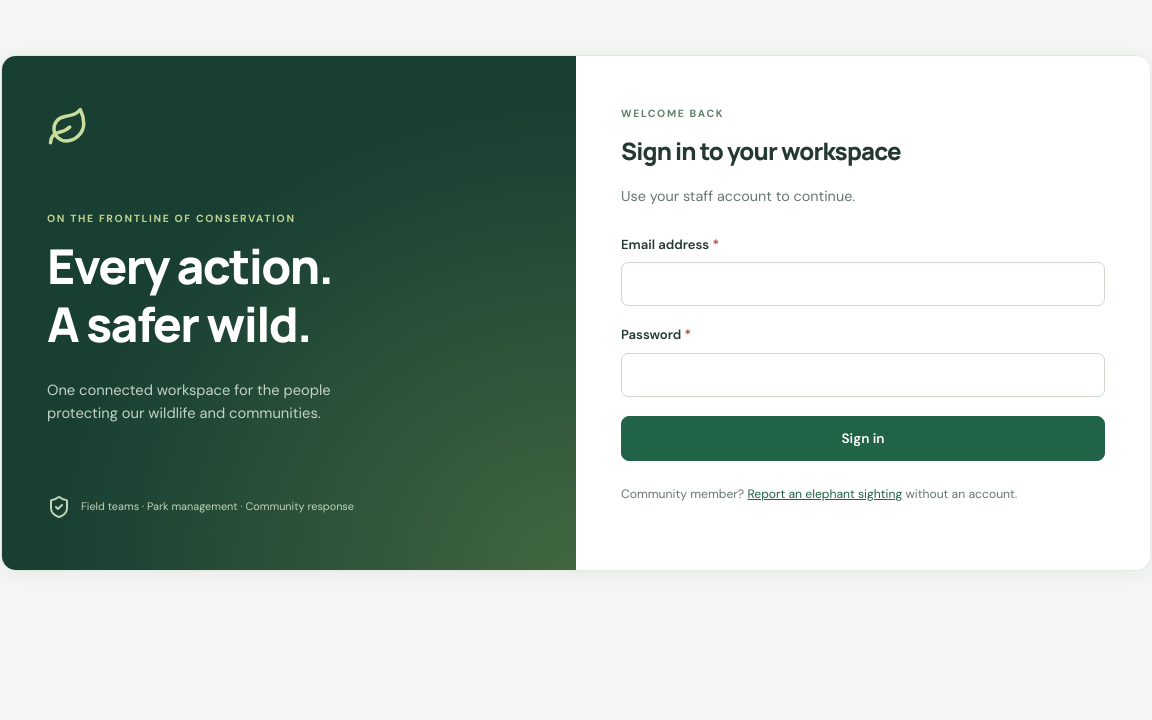
Test: Login form › requires email and password, submits credentials and shows API rejection
Type "ranger@wildlife.lk" into the field labelled "Email address *". click: (863, 284)
box: [621,262,1105,306]
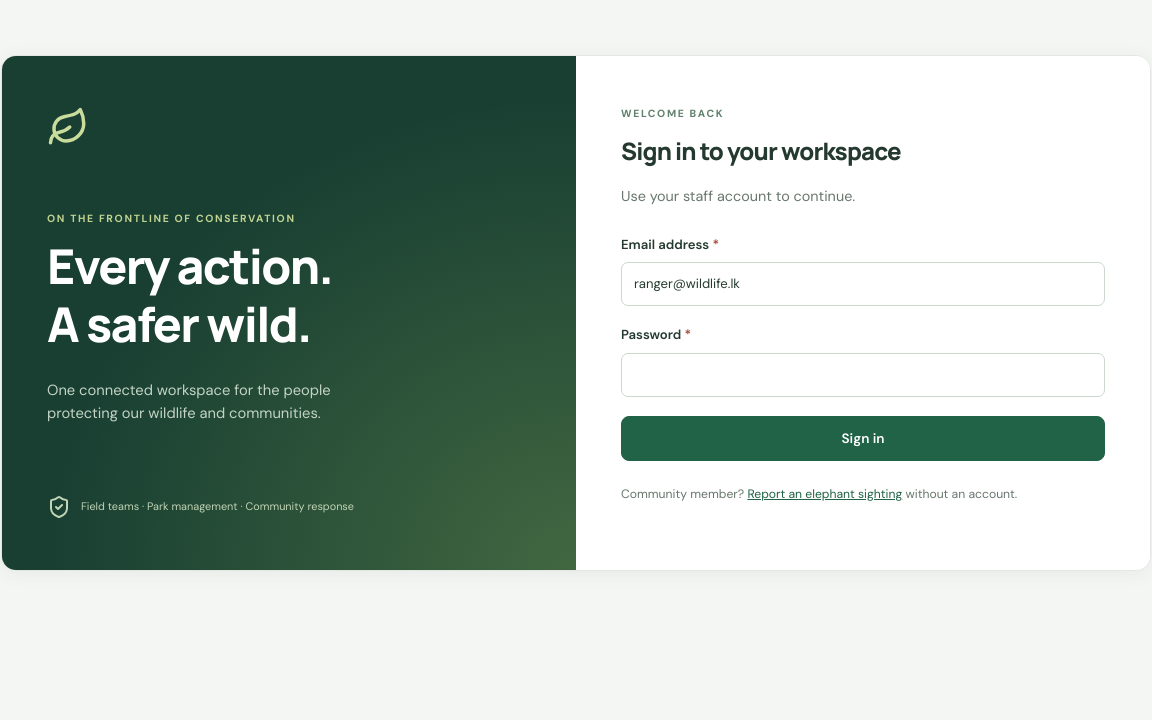
Type "wrong" into the password field labelled "Password *". click: (863, 375)
box: [621,353,1105,397]
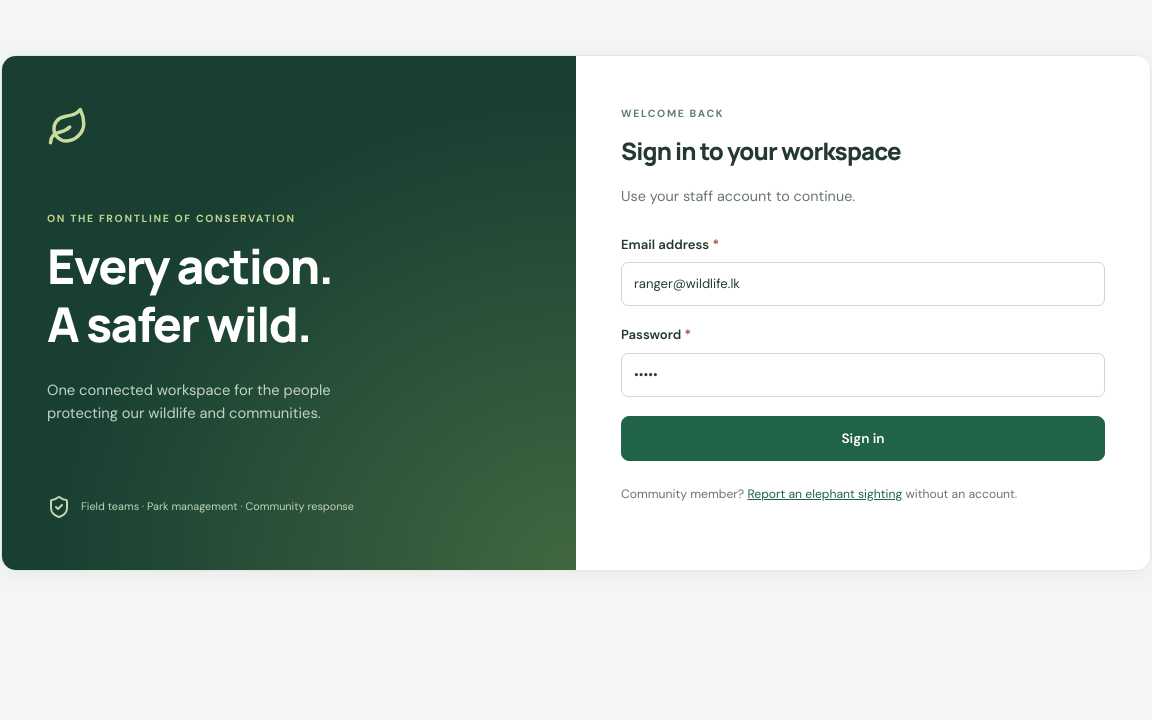
Click the button "Sign in". click: click(863, 439)
box: [621,416,1105,461]
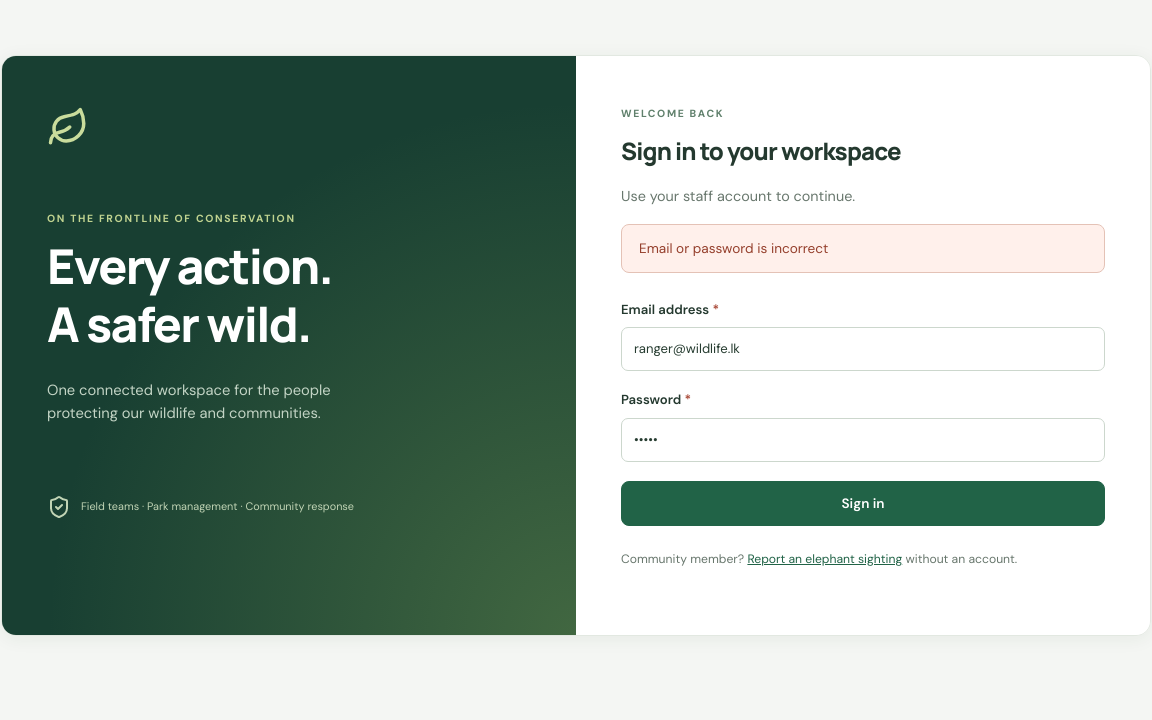
expect the message reads "Email or password is incorrect": met, box [639,240,828,257]
